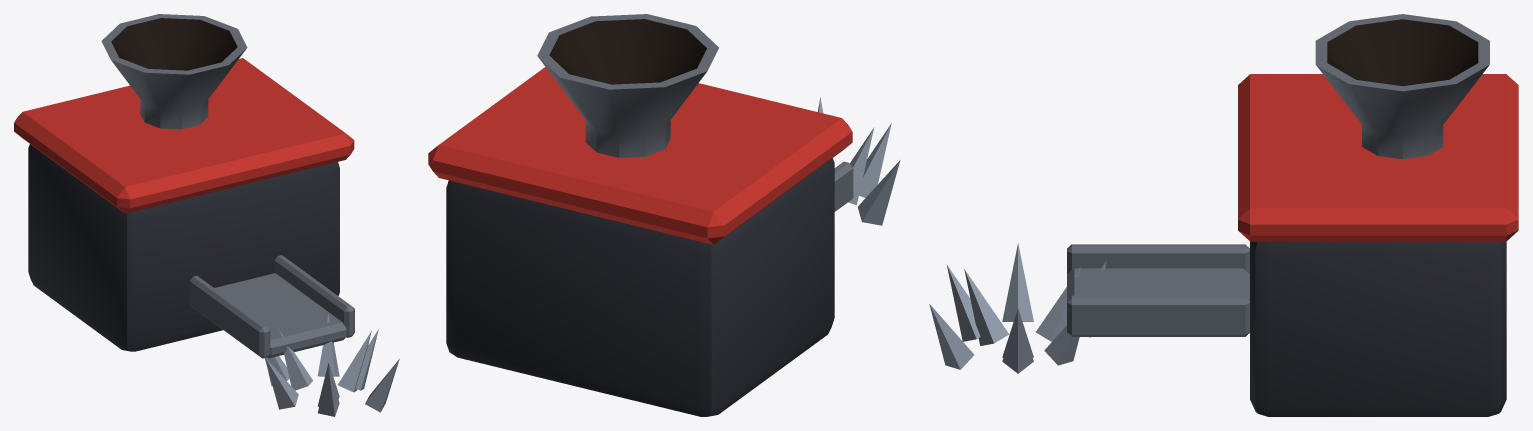
3 renders of one model, left to right at view 1: azimuth 30°, elevation 25°; view 2: azimuth 150°, elevation 25°; view 3: azimuth 270°, elevation 25°, orthographic. The views are drawn at different scales.
Visible parts, largest first — view 1: espinhos_0_base; view 2: espinhos_0_base; view 3: espinhos_0_base.
Part boxes in pixels (x1=…): espinhos_0_base: x1=14, y1=14, x2=399, y2=416; espinhos_0_base: x1=428, y1=14, x2=900, y2=416; espinhos_0_base: x1=929, y1=14, x2=1518, y2=416.
Size of the model in its own units: 0.56 by 0.55 by 0.9656.
